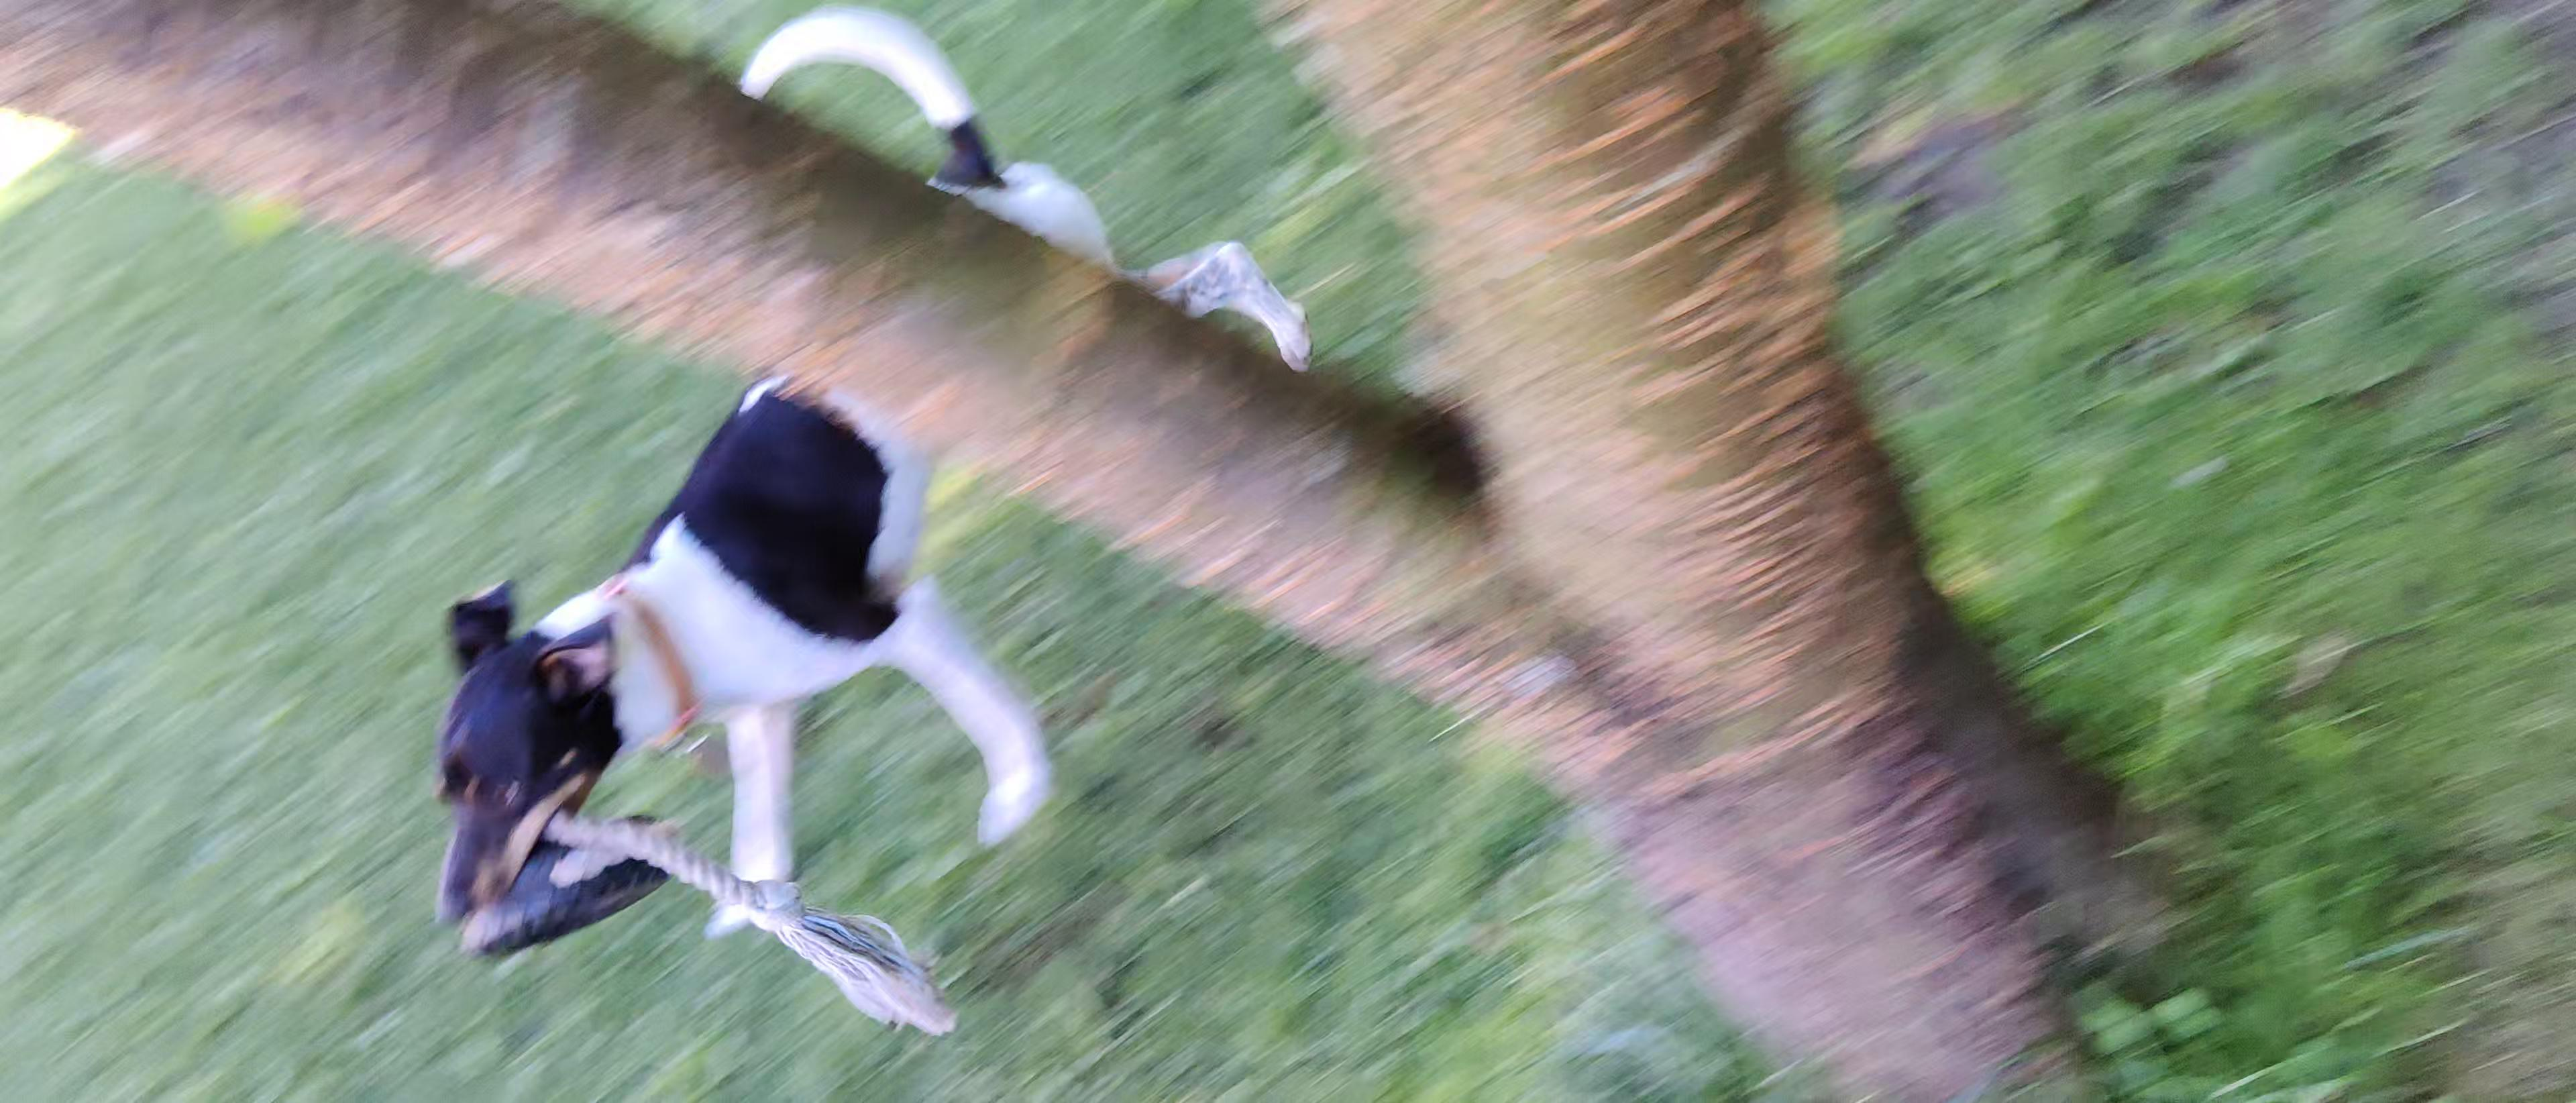Dog: (381, 8, 1339, 947)
